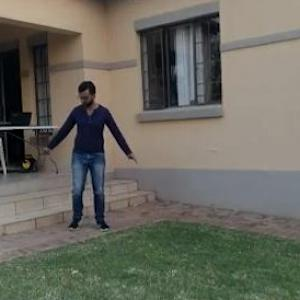land: (44, 79, 139, 230)
